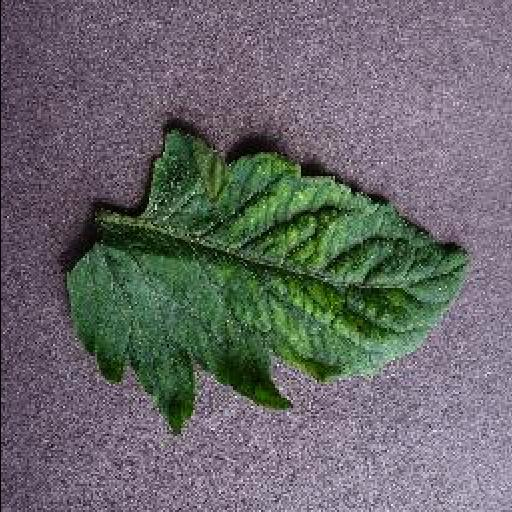Mosaic Virus: (61, 124, 472, 438)
